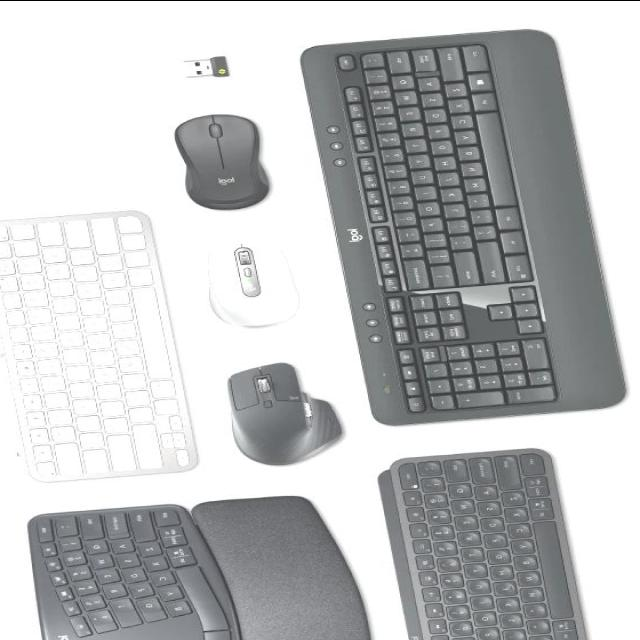keyboard: (294, 25, 634, 427), (1, 207, 205, 484), (373, 444, 609, 640), (24, 501, 254, 640)
